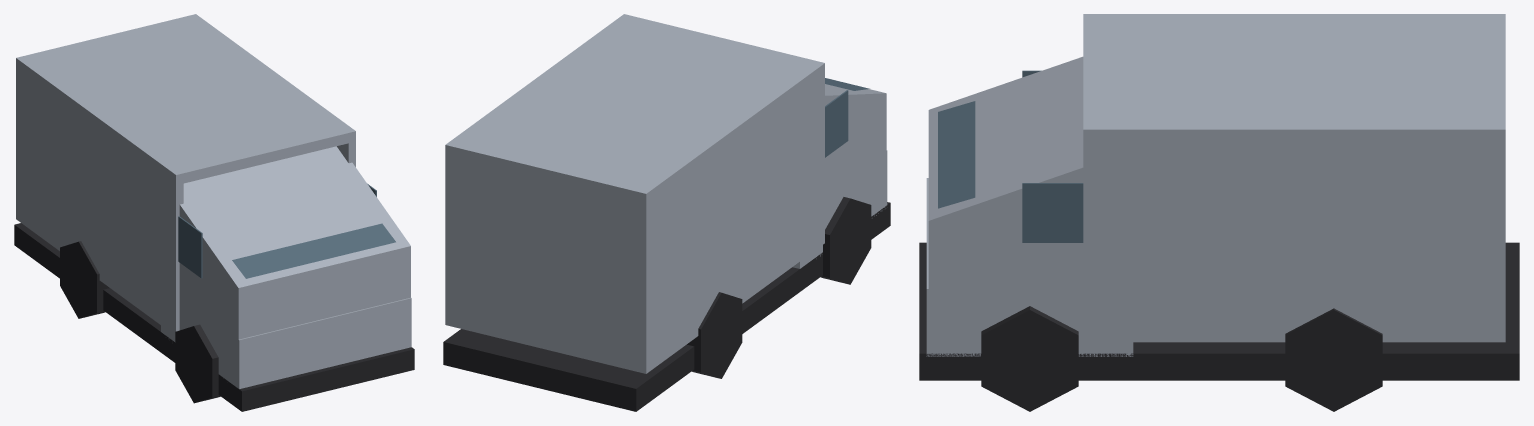
Rendered from delivery-low.glb.
3 renders of one model, left to right at view 1: azimuth 30°, elevation 25°; view 2: azimuth 150°, elevation 25°; view 3: azimuth 270°, elevation 25°, orthographic. The views are drawn at different scales.
Visible parts, largest first — view 1: body, wheel-front-right, wheel-back-right; view 2: body, door, wheel-front-right, wheel-back-right; view 3: body, wheel-front-left, wheel-back-left.
Boxes of the visible parts, bbox=[...] form: body: bbox=[14, 14, 414, 411]; wheel-front-right: bbox=[175, 324, 220, 403]; wheel-back-right: bbox=[60, 241, 109, 318]; body: bbox=[443, 14, 890, 411]; door: bbox=[451, 155, 639, 372]; wheel-front-right: bbox=[820, 197, 871, 284]; wheel-back-right: bbox=[687, 292, 742, 378]; body: bbox=[919, 14, 1519, 380]; wheel-front-left: bbox=[981, 306, 1078, 411]; wheel-back-left: bbox=[1285, 308, 1382, 411].
Bounding box in the file's own units: 1.5 × 1.65 × 3.2.
